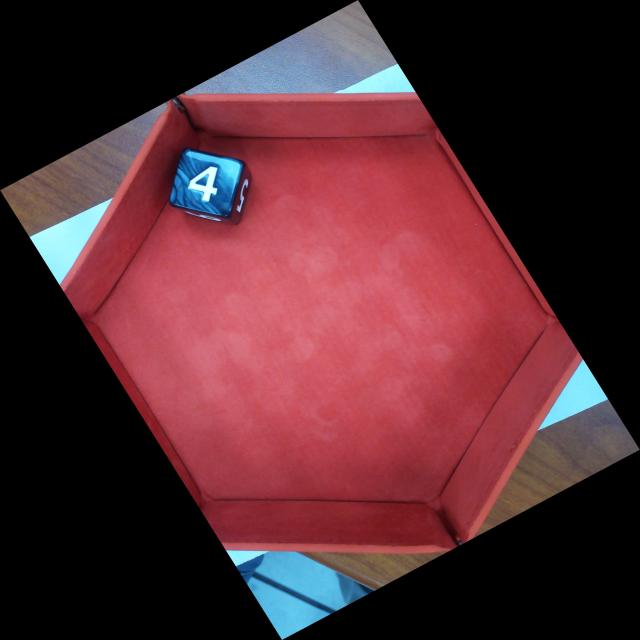dice: (166, 145, 247, 220)
